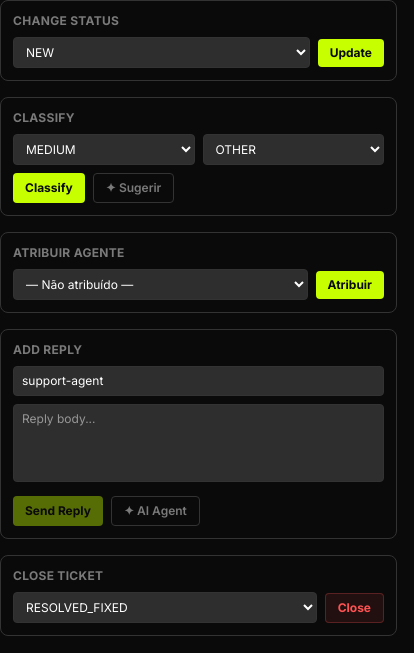
Scenario: ActionButtons — AI Agent reply › disables AI button while loading to prevent double submit
Click the button titled "gerar sugestão": (155, 511) 111,496 -> 200,526
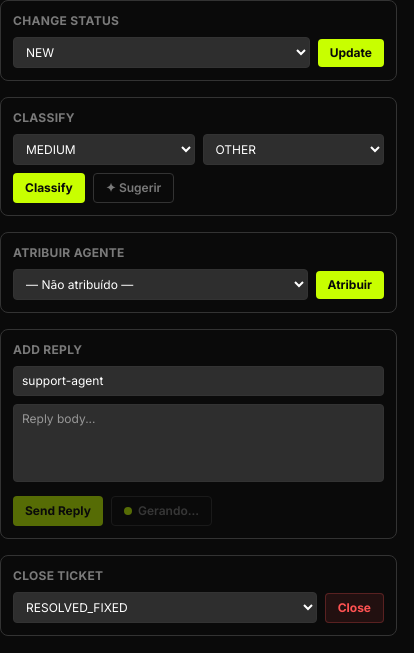
Check: the button "Gerando..." is disabled, box 111,496 -> 212,526
